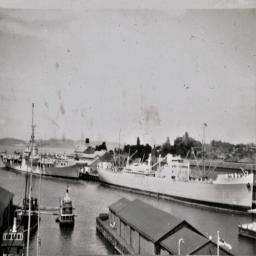Portanaves: (2, 128, 90, 185)
